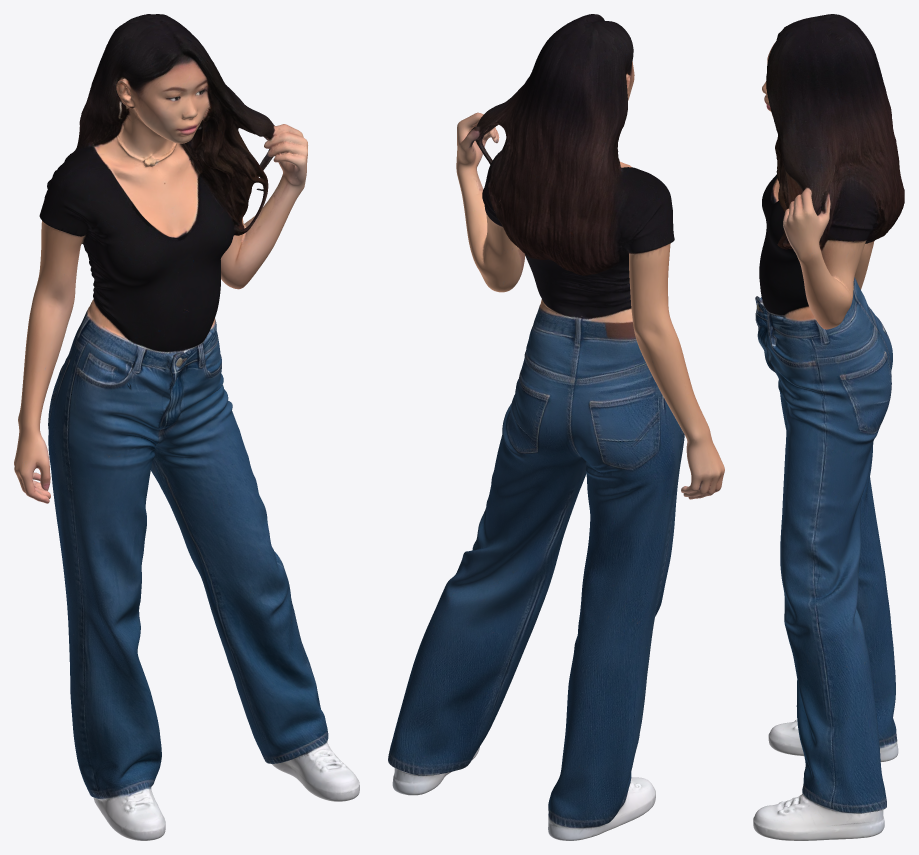
Rendered from casual denim ensemble (2)-br8n0bj5.glb.
The picture shows the model from 3 angles, left to right: view 1: azimuth 30°, elevation 25°; view 2: azimuth 150°, elevation 25°; view 3: azimuth 270°, elevation 25°; orthographic projection. The views are drawn at different scales.
Parts seen in each view (by area): view 1: mesh_0; view 2: mesh_0; view 3: mesh_0.
Boxes of the visible parts, bbox=[...] form: mesh_0: bbox=[14, 14, 359, 840]; mesh_0: bbox=[388, 14, 724, 840]; mesh_0: bbox=[753, 14, 904, 840].
Bounding box in the file's own units: 0.791 × 1.9 × 0.3512.
1 material, 1 textured.
